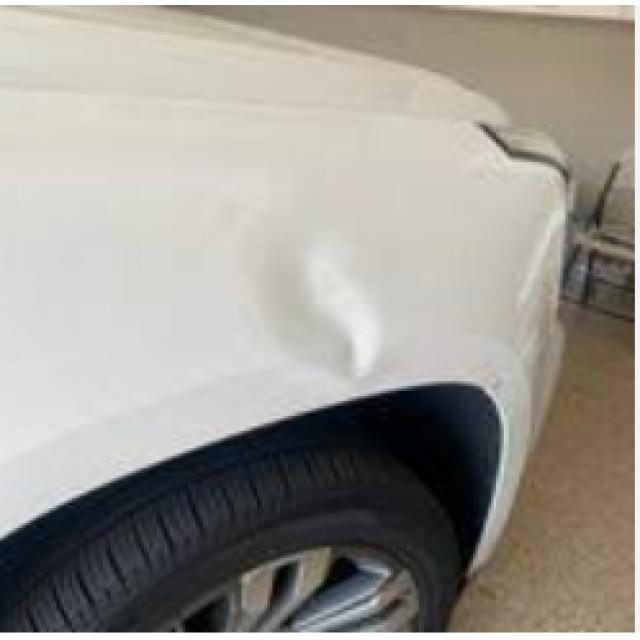dents: (255, 238, 439, 394)
